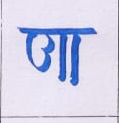aa_matra: (72, 38, 78, 81)
